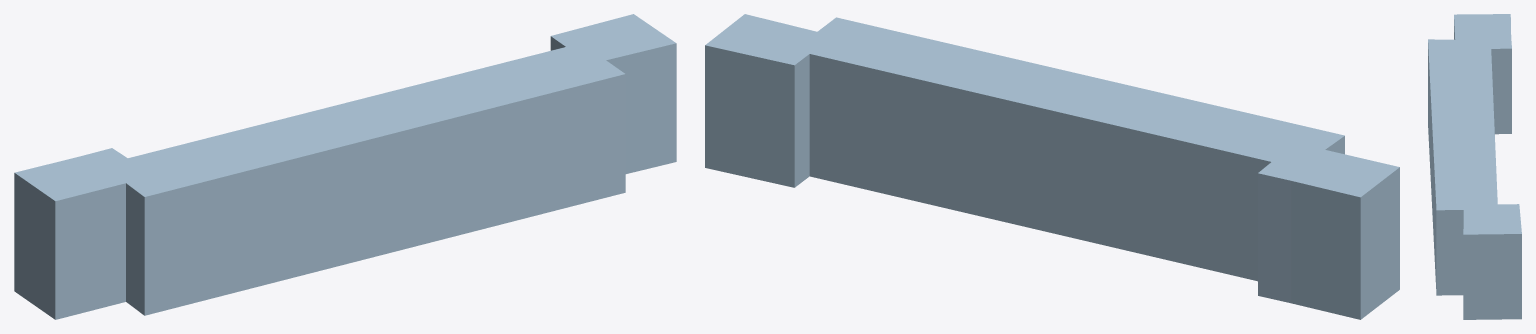
Rendered from osm_way_223859786.glb.
3 renders of one model, left to right at view 1: azimuth 30°, elevation 25°; view 2: azimuth 150°, elevation 25°; view 3: azimuth 270°, elevation 25°, orthographic. The views are drawn at different scales.
Visible parts, largest first — view 1: osm_way_223859786; view 2: osm_way_223859786; view 3: osm_way_223859786.
Part boxes in pixels (bbox=[...]): osm_way_223859786: bbox=[14, 14, 676, 319]; osm_way_223859786: bbox=[705, 14, 1399, 319]; osm_way_223859786: bbox=[1428, 14, 1521, 319].
Bounding box in the file's own units: 107 × 19.2 × 19.17.
